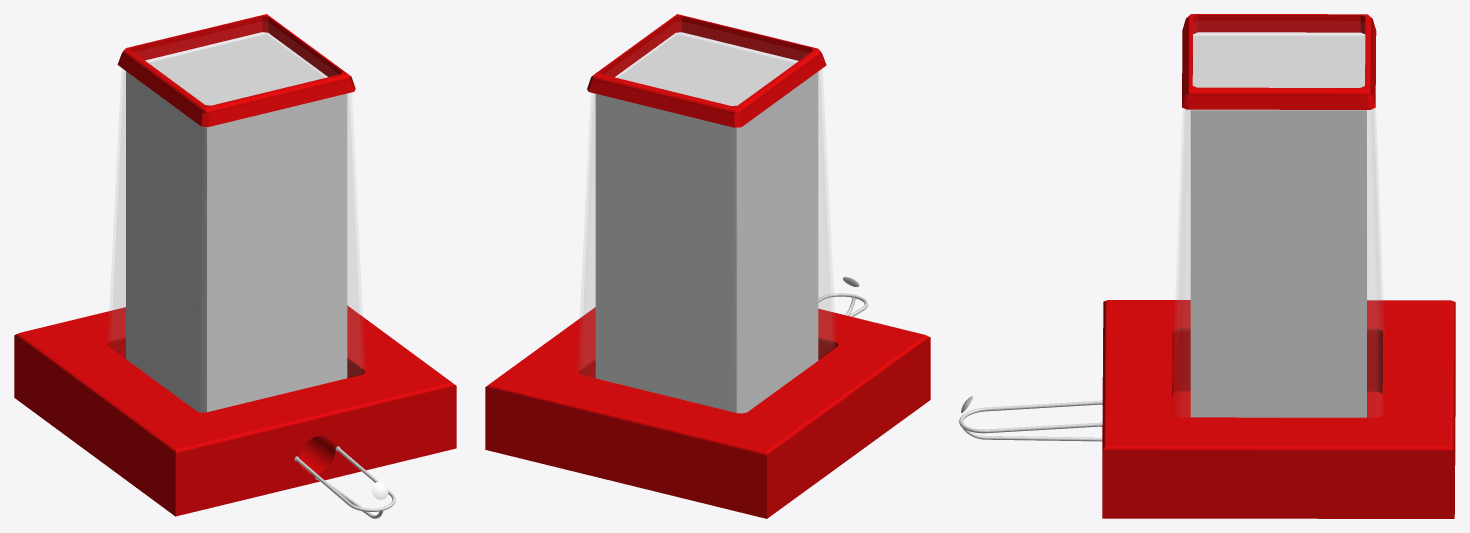
Rendered from lottery-alpha.glb.
3 renders of one model, left to right at view 1: azimuth 30°, elevation 25°; view 2: azimuth 150°, elevation 25°; view 3: azimuth 270°, elevation 25°, orthographic. The views are drawn at different scales.
Parts seen in each view (by area): view 1: BounceZone, Socle, TopJoin, Rail; view 2: BounceZone, Socle, TopJoin; view 3: BounceZone, Socle, TopJoin, Rail.
Boxes of the visible parts, x1,y1,x2,y2 form: BounceZone: (126,34,347,412); Socle: (14,305,456,516); TopJoin: (117,14,355,127); Rail: (294,446,395,518); BounceZone: (595,34,818,413); Socle: (485,307,930,518); TopJoin: (587,14,826,127); BounceZone: (1190,35,1366,417); Socle: (1102,300,1455,518); TopJoin: (1182,14,1376,109); Rail: (959,400,1102,441).
Bounding box in the file's own units: 3.36 × 4.12 × 4.71.
Materials: 5 (1 with a texture image).
